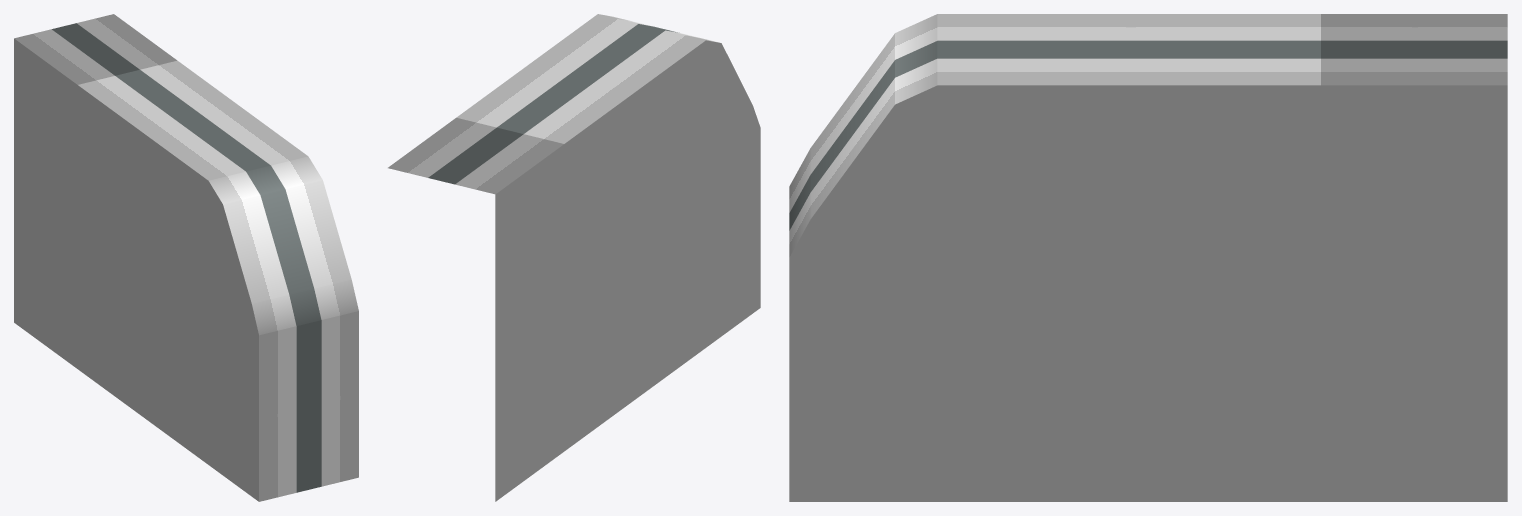
3 renders of one model, left to right at view 1: azimuth 30°, elevation 25°; view 2: azimuth 150°, elevation 25°; view 3: azimuth 270°, elevation 25°, orthographic. The views are drawn at different scales.
Bounding box in the file's own units: 0.5 × 1.36 × 2.12.
Materials: 1 (1 with a texture image).
